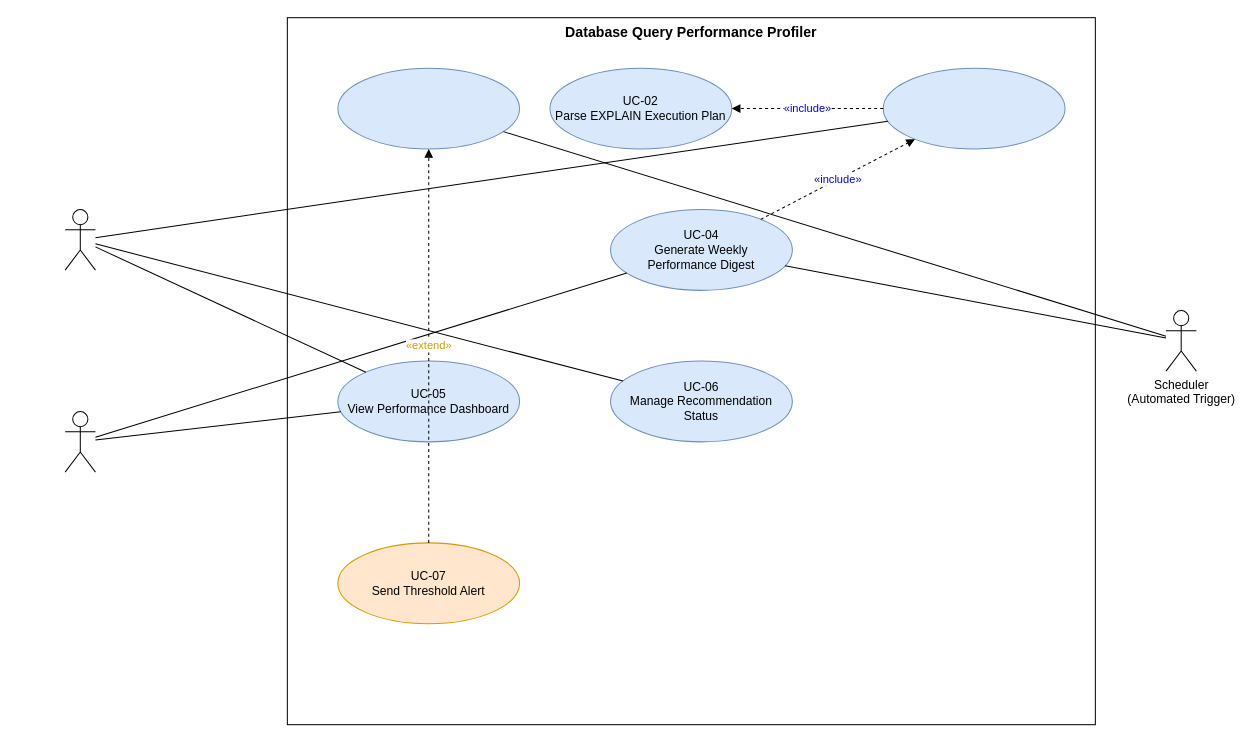
Some shapes in this 1252 by 742 pixel diagram are drawn without their labels. The box of each missing label's shape, as (x1, y1, x2, y2) in pixels:
Backend Lead: (64, 411, 95, 472)
Database Administrator: (64, 209, 95, 270)
UC-01 Ingest Slow Query Logs: (337, 67, 520, 149)
UC-03 Recommend Missing Indexes: (882, 67, 1065, 149)
